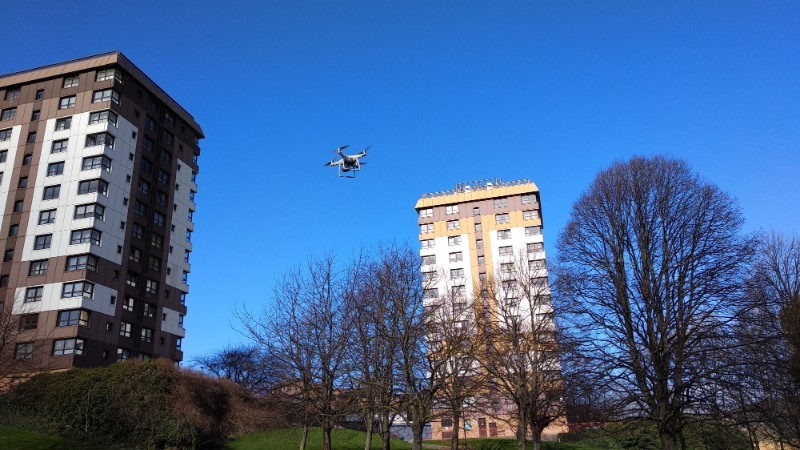drone: (322, 144, 377, 180)
